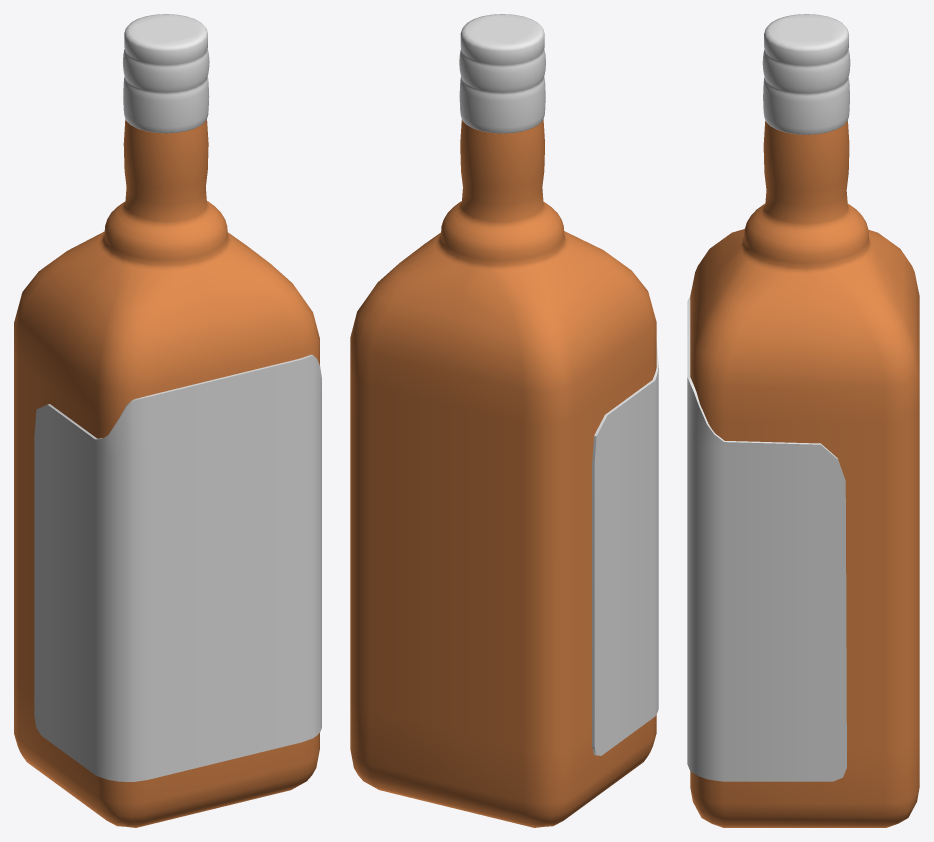
The model's file is MESH_Bottle_C.fbx.
3 renders of one model, left to right at view 1: azimuth 30°, elevation 25°; view 2: azimuth 150°, elevation 25°; view 3: azimuth 270°, elevation 25°, orthographic.
Visible parts, largest first — view 1: Bottle_C; view 2: Bottle_C; view 3: Bottle_C.
Part boxes in pixels (x1,y1,x2,y2): Bottle_C: (14,14,321,827); Bottle_C: (350,14,658,827); Bottle_C: (687,14,919,827).
Bounding box in the file's own units: 16.2 × 51.77 × 14.41.
